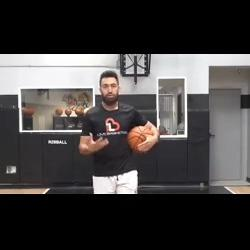BasketBall: (126, 121, 158, 154)
Player: (76, 69, 161, 194)
